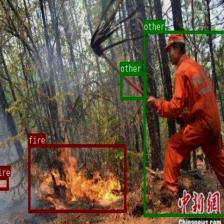fire: (28, 144, 125, 212), (0, 176, 8, 190)
